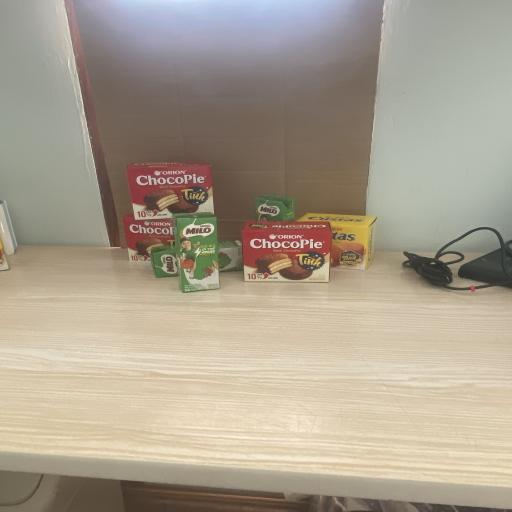chocopie: (242, 221, 330, 283), (126, 160, 214, 220), (122, 214, 176, 264)
custas: (298, 213, 376, 271)
milo: (172, 211, 220, 293), (154, 240, 244, 276), (254, 193, 295, 221)
